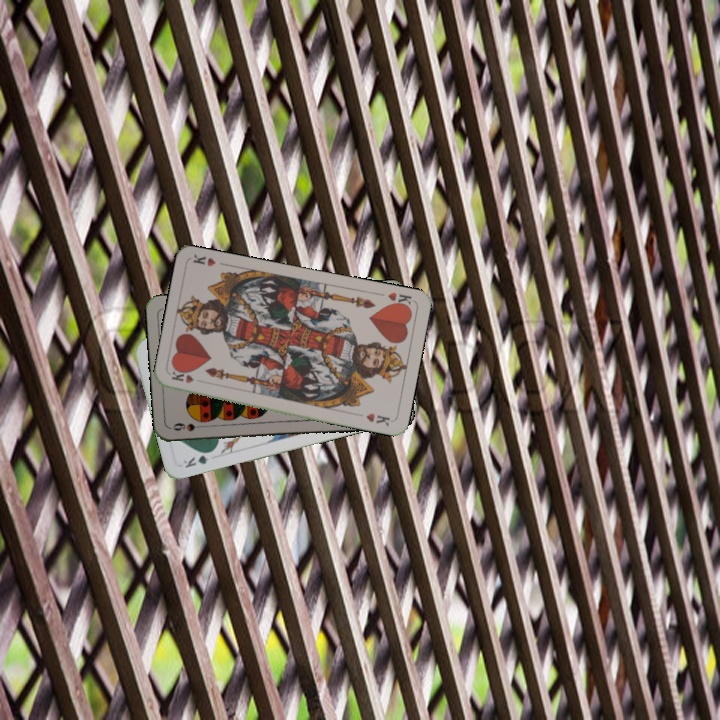GK: (179, 447, 217, 470)
HK: (384, 288, 416, 311), (168, 368, 196, 386)
S9: (170, 419, 209, 434)
